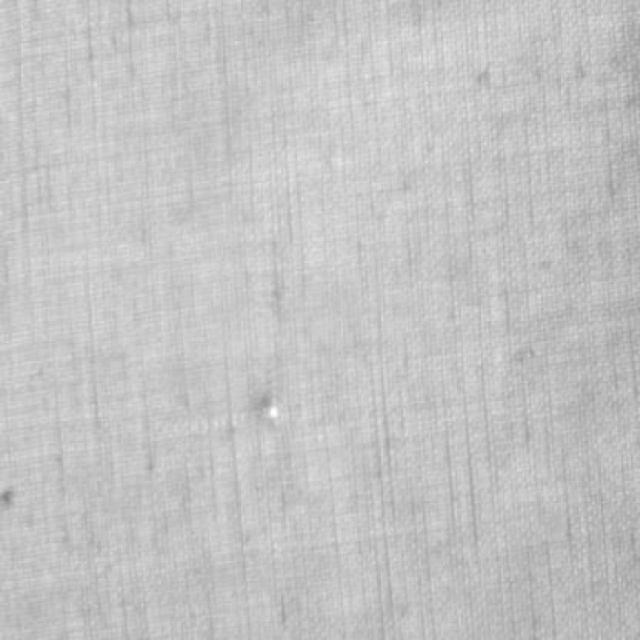other: (191, 370, 341, 454)
